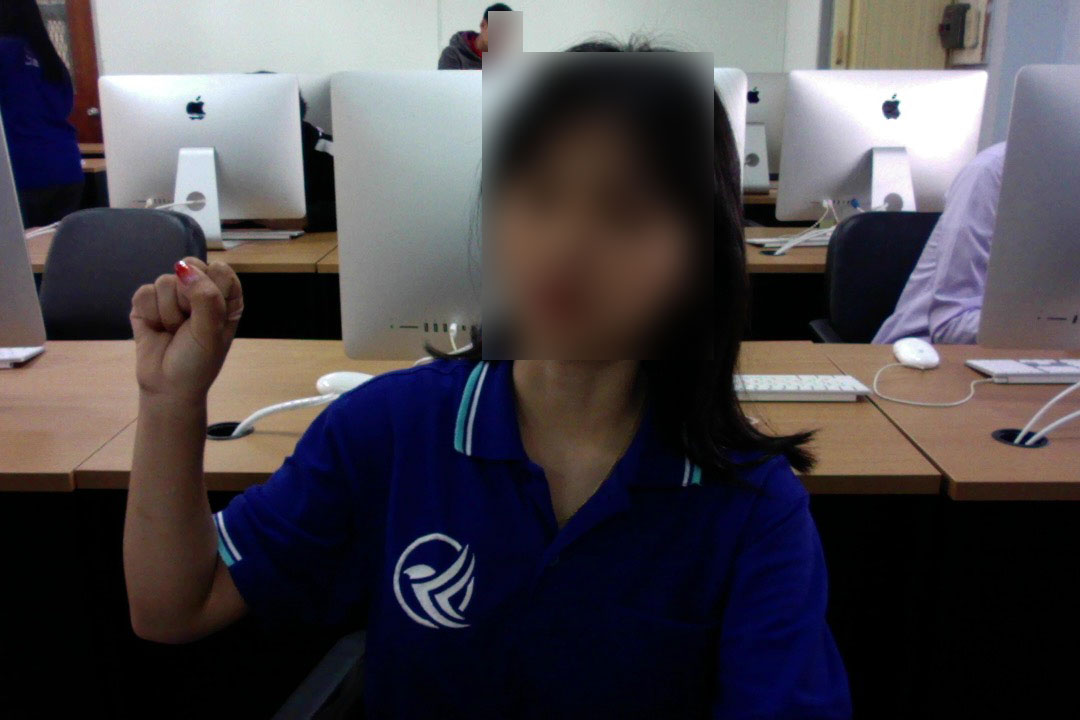sor: (126, 245, 249, 414)
